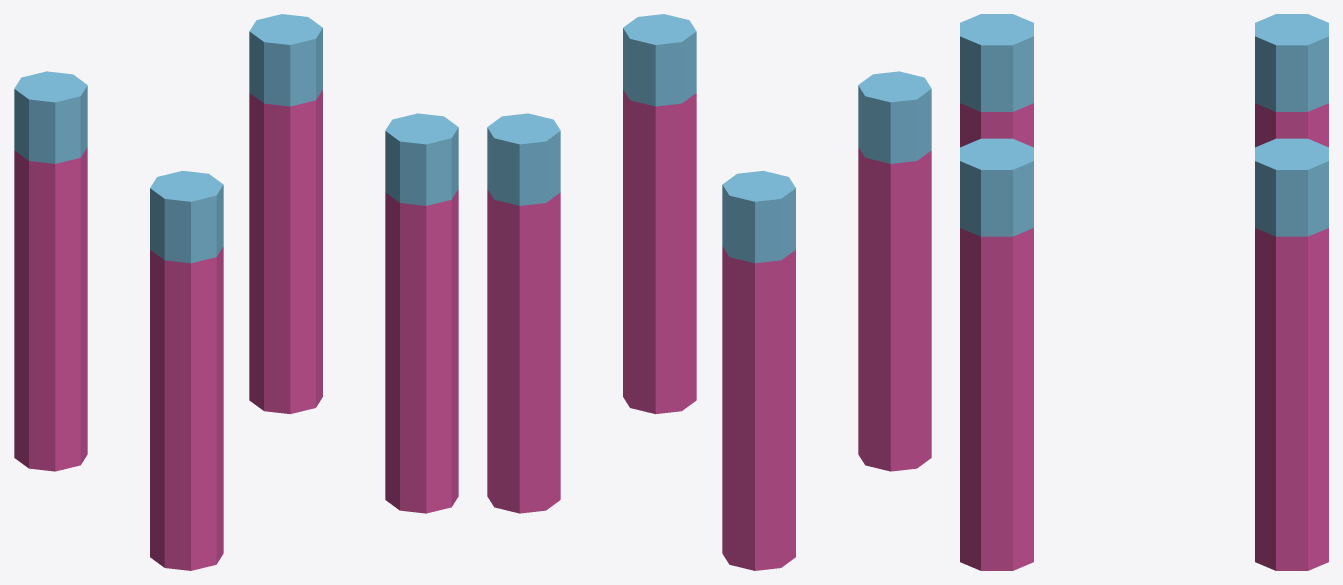
Rendered from Playground Support 3.fbx.
3 views of the same model, side by side, from view 1: azimuth 30°, elevation 25°; view 2: azimuth 150°, elevation 25°; view 3: azimuth 270°, elevation 25° (orthographic). The views are drawn at different scales.
Parts seen in each view (by area): view 1: Playground Support 3; view 2: Playground Support 3; view 3: Playground Support 3.
Boxes of the visible parts, <box> form: Playground Support 3: <box>14,14,458,570</box>; Playground Support 3: <box>487,14,931,570</box>; Playground Support 3: <box>960,14,1328,570</box>.
Bounding box in the file's own units: 100 × 120 × 100.
